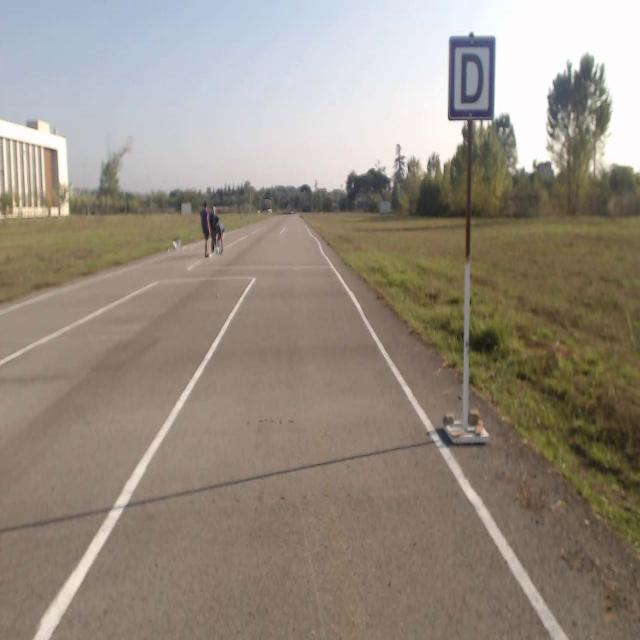durak: (450, 36, 494, 120)
